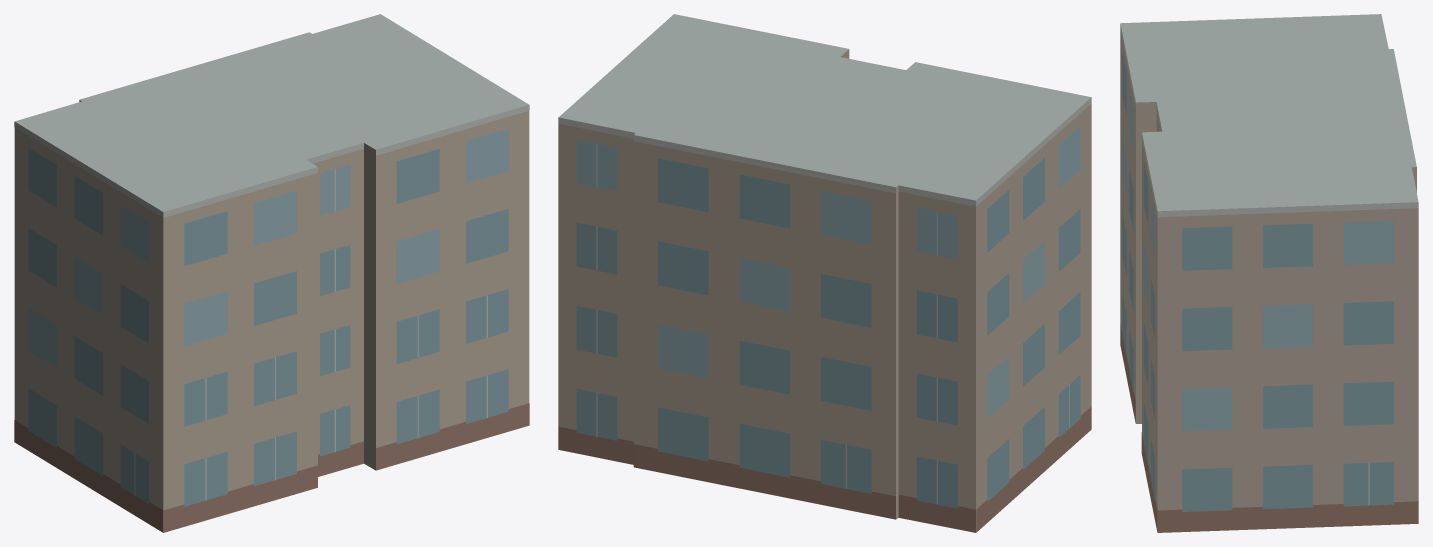
Rendered from survey-upis-32918772.glb.
The picture shows the model from 3 angles, left to right: view 1: azimuth 30°, elevation 25°; view 2: azimuth 150°, elevation 25°; view 3: azimuth 270°, elevation 25°; orthographic projection. The views are drawn at different scales.
Visible parts, largest first — view 1: survey-upis-32918772.tmp; view 2: survey-upis-32918772.tmp; view 3: survey-upis-32918772.tmp.
Boxes of the visible parts, <box> form: survey-upis-32918772.tmp: <box>14,14,529,532</box>; survey-upis-32918772.tmp: <box>558,14,1091,532</box>; survey-upis-32918772.tmp: <box>1120,14,1418,532</box>.
Size of the model in its own units: 17.38 by 13.2 by 11.1.
